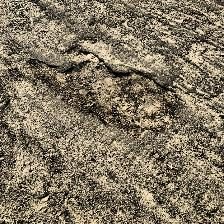pothole: (28, 44, 184, 142)
